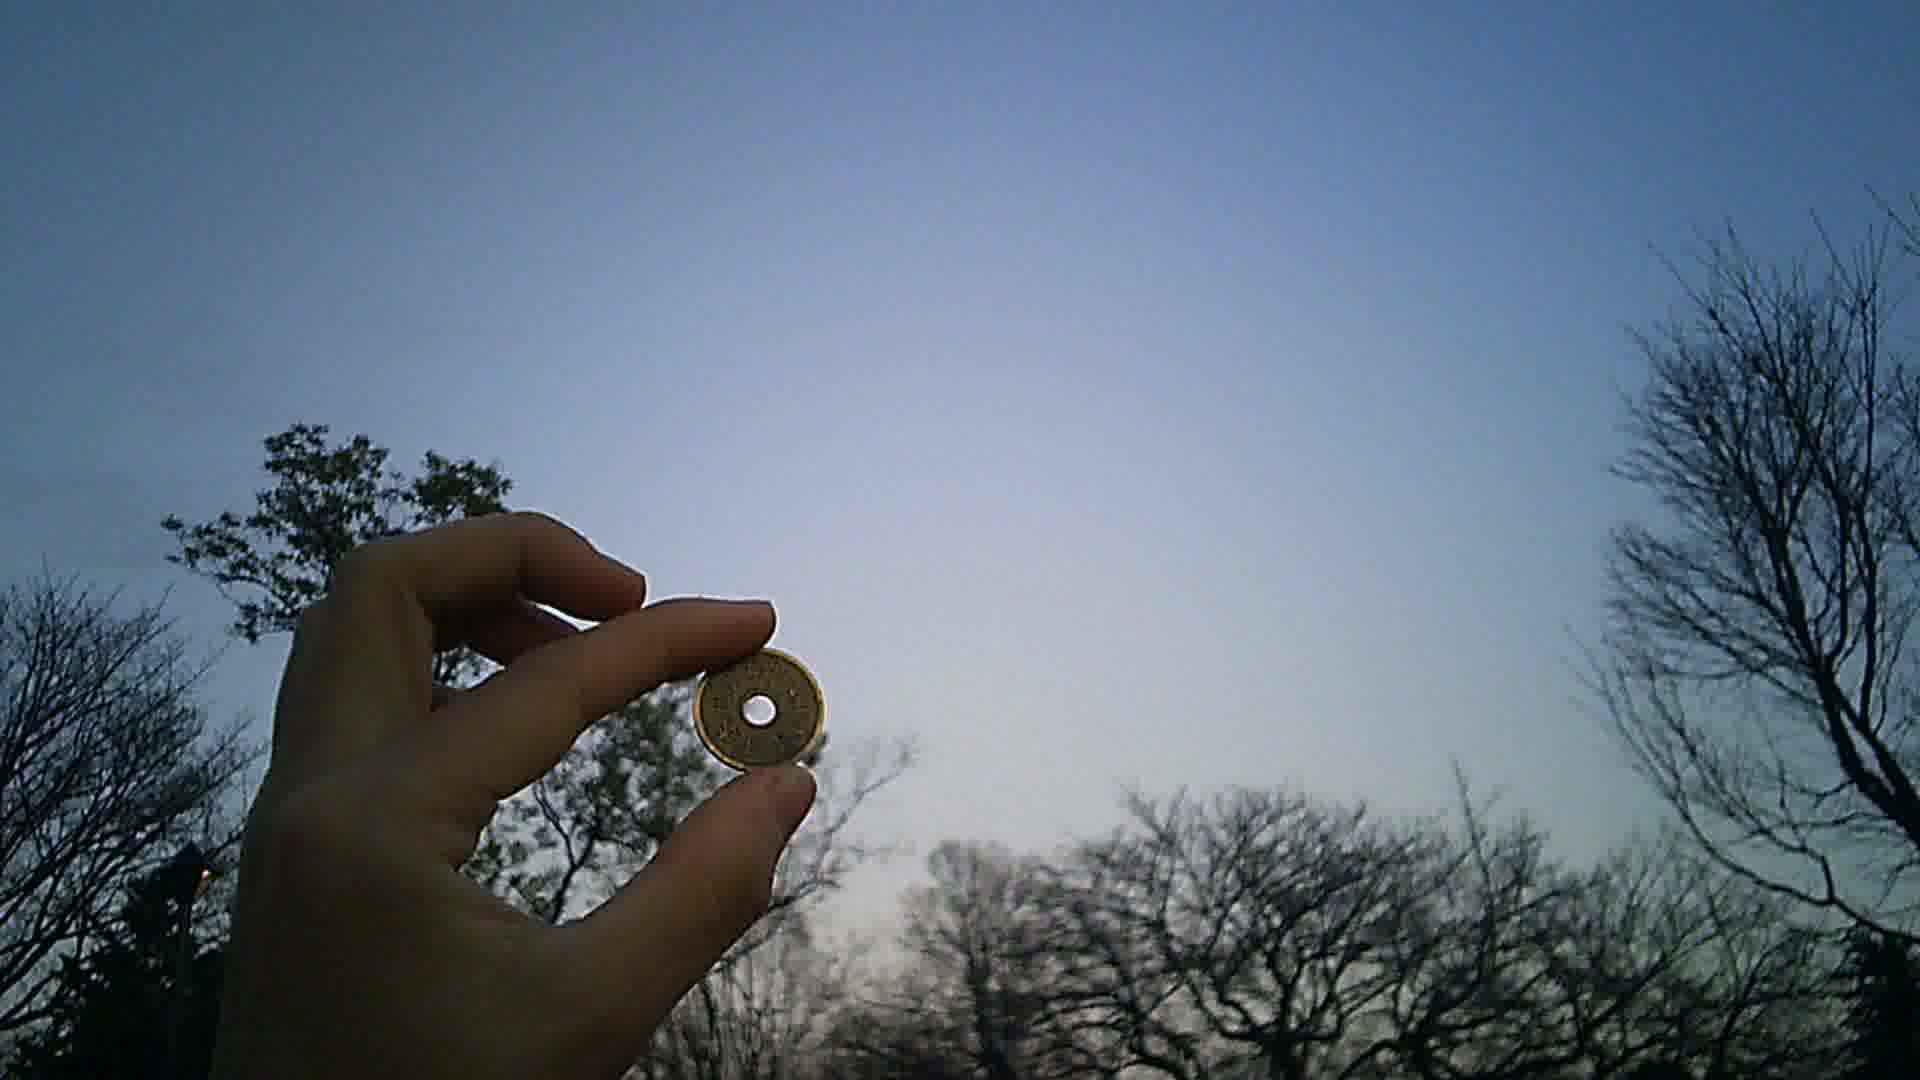5 Yen: (692, 634, 833, 785)
